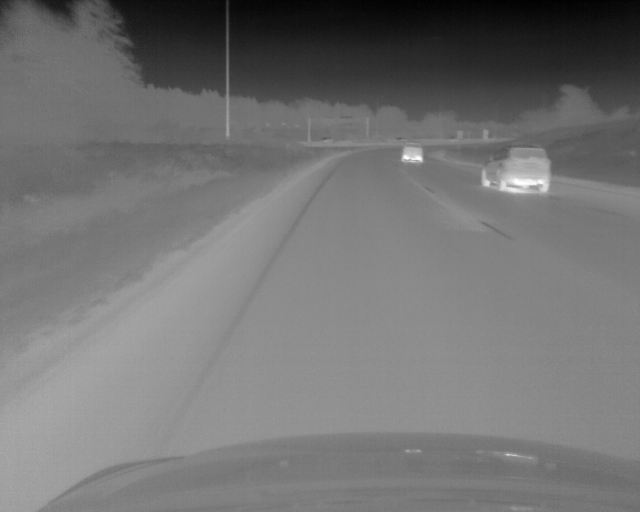car: (479, 146, 551, 192), (401, 145, 423, 162)
